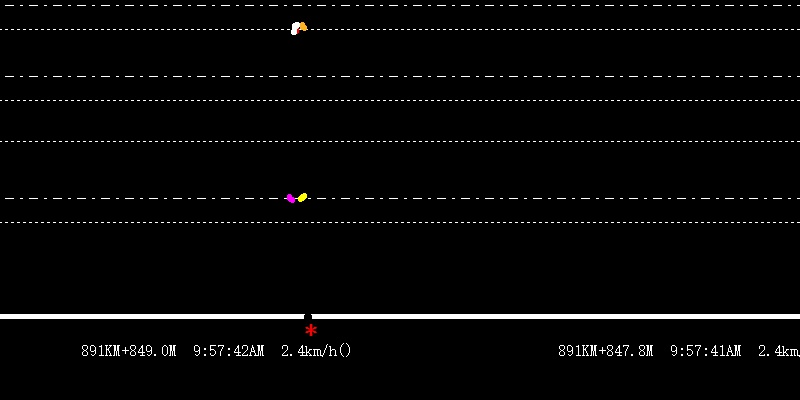face_2: (288, 21, 308, 36)
star: (301, 322, 319, 339)
